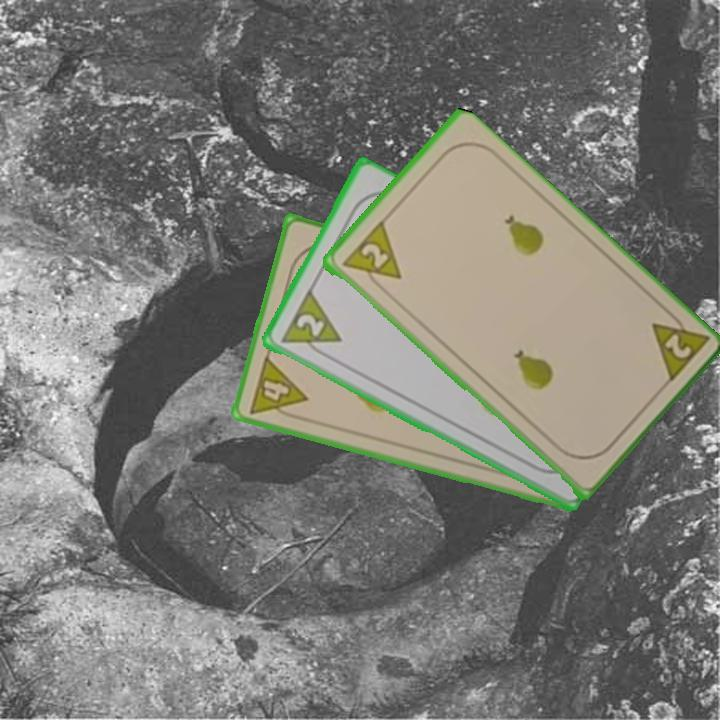2p: (646, 304, 711, 388), (276, 287, 344, 363), (338, 219, 404, 295)
4p: (245, 352, 310, 424)
